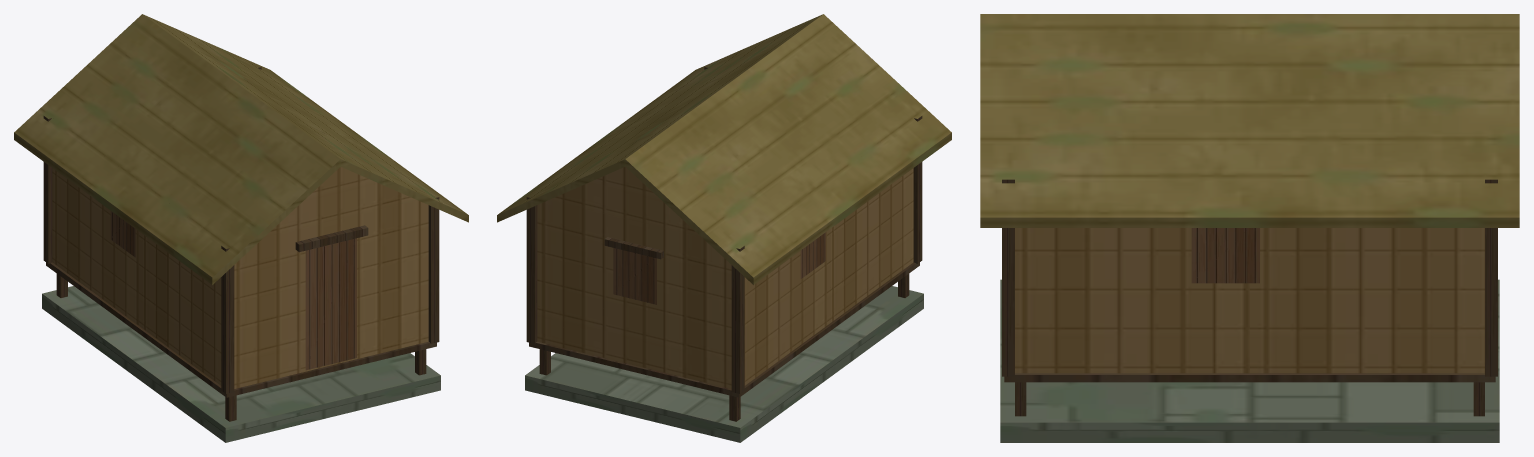
File: ae_jungle_wood_medium_block_lod1.glb
The picture shows the model from 3 angles, left to right: view 1: azimuth 30°, elevation 25°; view 2: azimuth 150°, elevation 25°; view 3: azimuth 270°, elevation 25°; orthographic projection. The views are drawn at different scales.
Visible parts, largest first — view 1: ae_jungle_wood_medium_block_lod1; view 2: ae_jungle_wood_medium_block_lod1; view 3: ae_jungle_wood_medium_block_lod1.
Part boxes in pixels (x1,y1,x2,y2): ae_jungle_wood_medium_block_lod1: (14,14,468,442); ae_jungle_wood_medium_block_lod1: (497,14,951,442); ae_jungle_wood_medium_block_lod1: (980,14,1519,442).
Bounding box in the file's own units: 5 × 4.9 × 6.7.
Materials: 1 (1 with a texture image).
